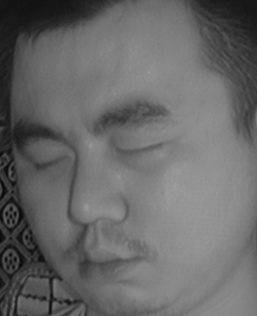blink: (112, 131, 169, 169), (27, 147, 71, 182)
mouth: (64, 236, 147, 289)
